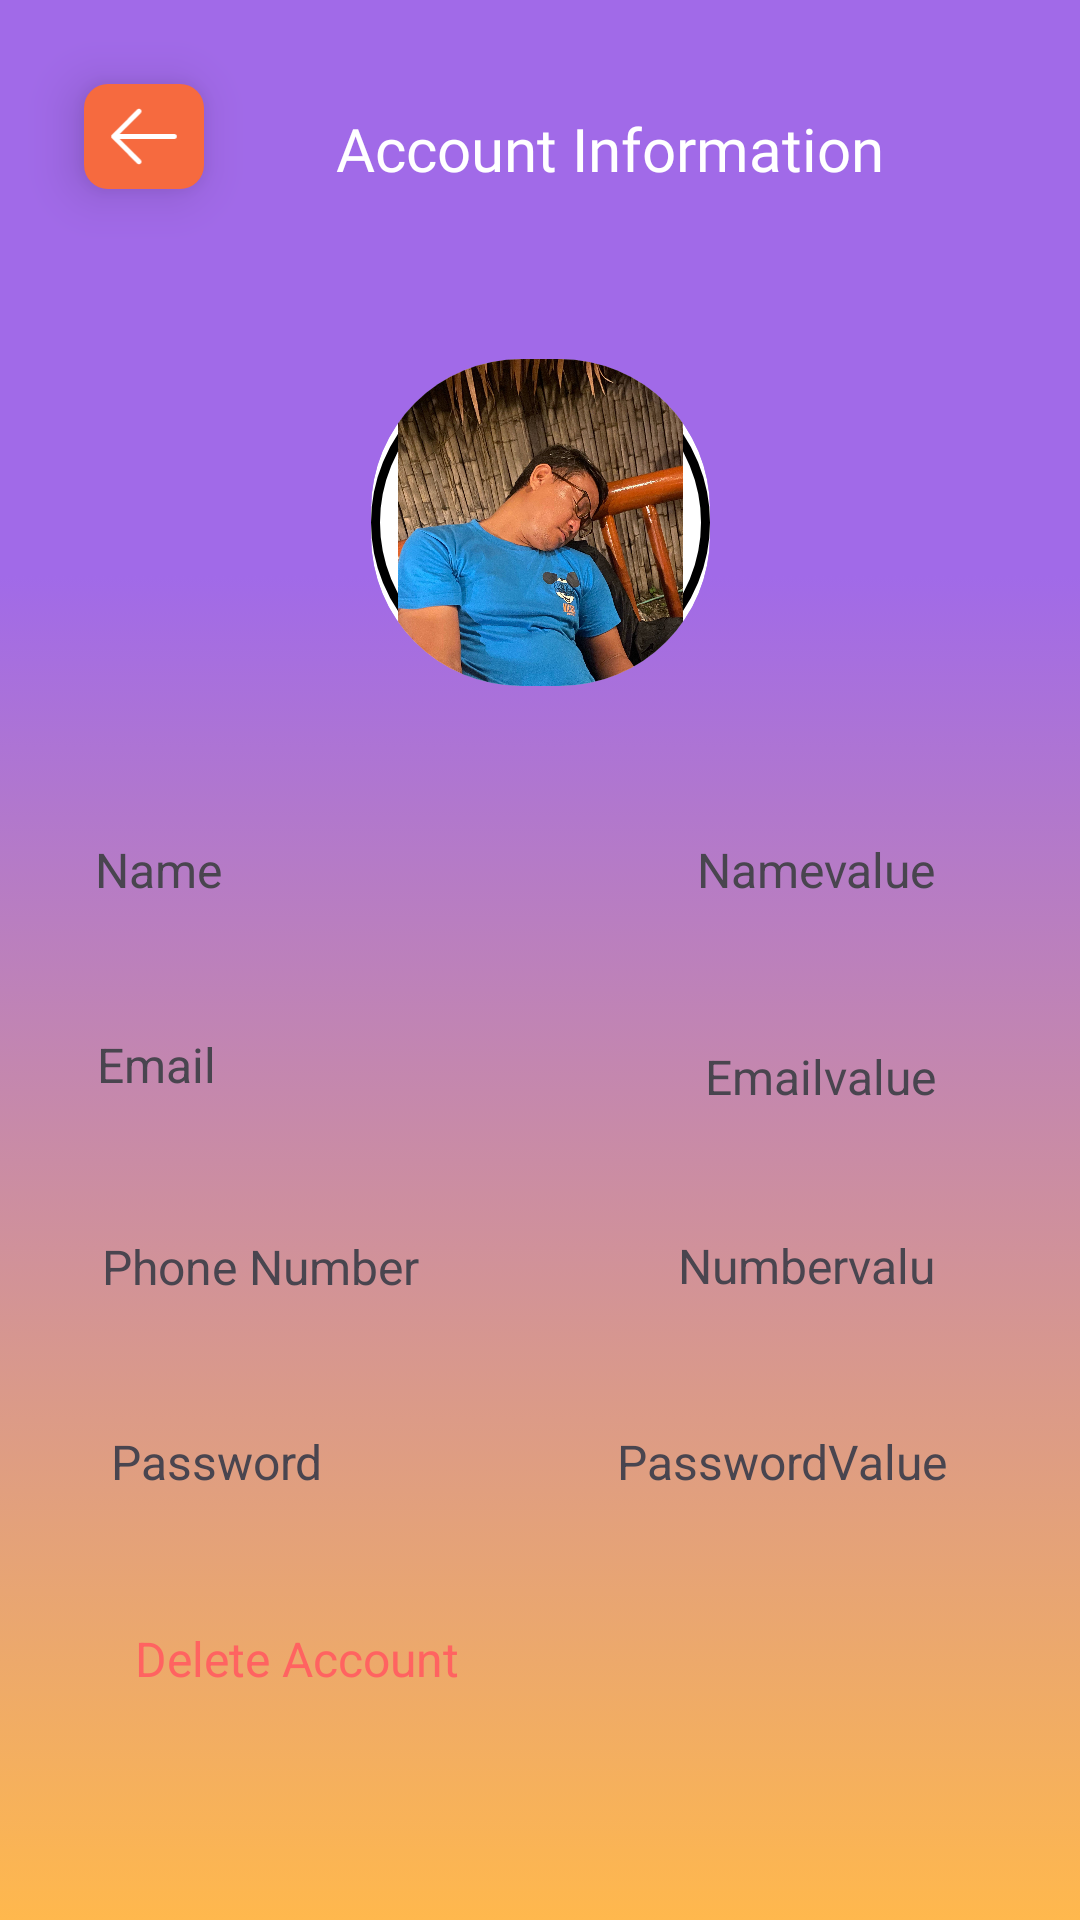

Screen size 1080x1920. Icon name, then its center in pixels as (x,y):
arrow: (144,136)
person: (540,522)
